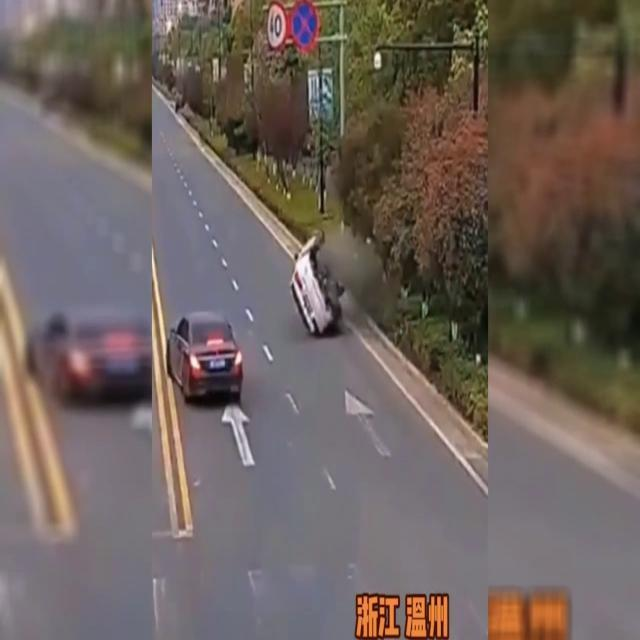normal: (158, 273, 310, 436)
single accident: (289, 207, 358, 346)
